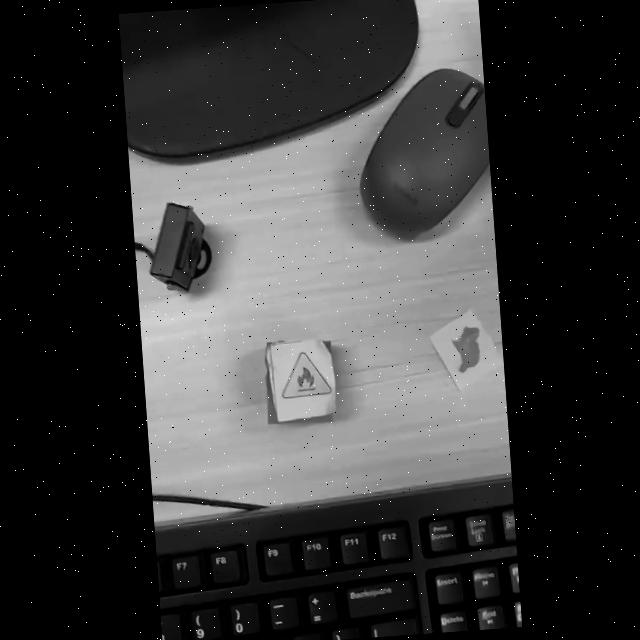Fire: (282, 351, 330, 398)
